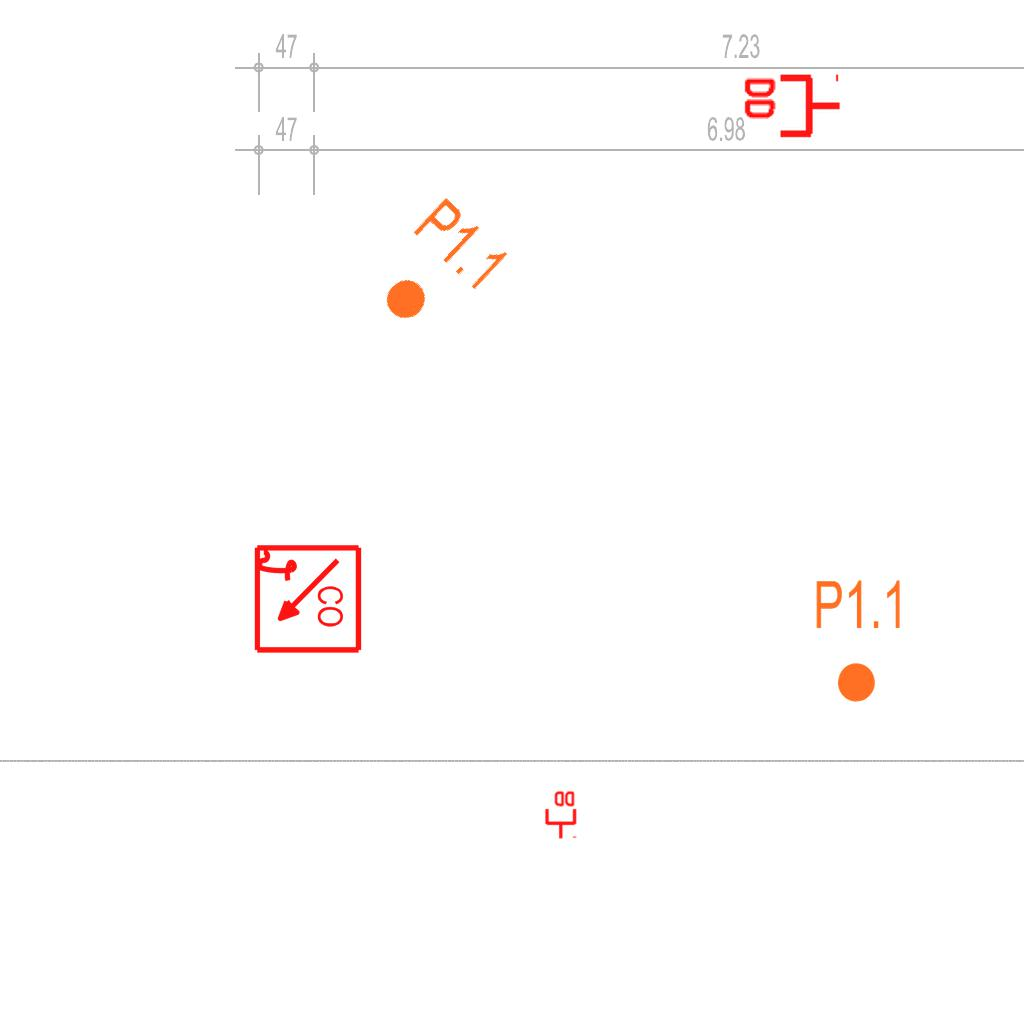Datenanschluss_zweifach: (740, 73, 843, 142), (543, 789, 577, 840)
Downlight_LED_Einbauleuchten_Flur: (358, 192, 515, 350), (813, 577, 906, 705)
ROA_Rauchmelder_optisch_mit_Signalgeber_(Sockelsirene): (250, 543, 363, 656)
